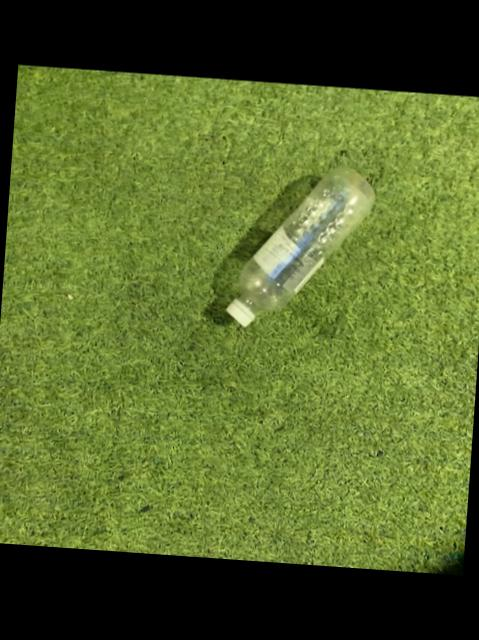plastic: (227, 166, 374, 325)
